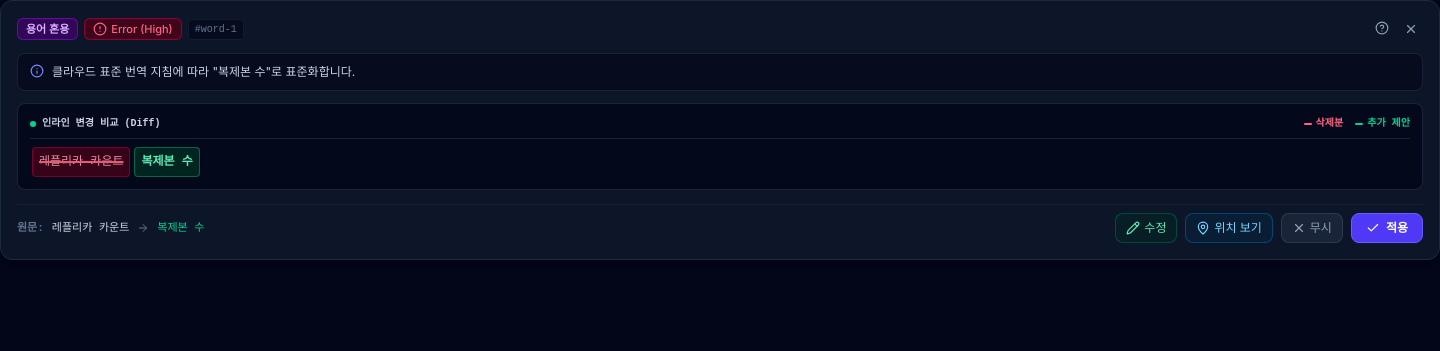
Scenario: QACardItem Component › edits the suggested segment and saves it through the QA store
Click the button with test id "qa-edit-suggestion-btn": [1146, 228] box [1115,213,1177,243]
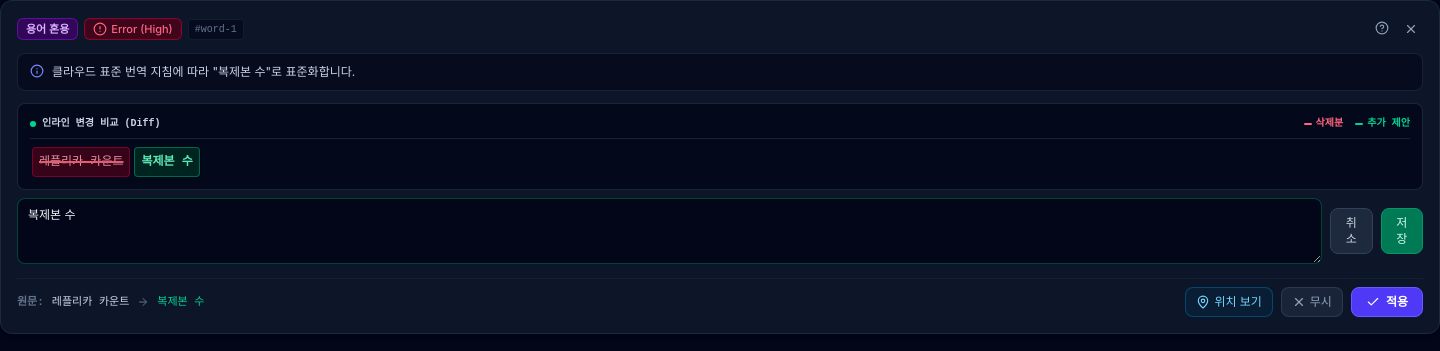
Result: the text box with test id "qa-suggestion-editor" holds "복제본 수"
Replace the text in the text box with test id "qa-suggestion-editor" with "Custom replacement": [670, 231] box [17,198,1322,264]
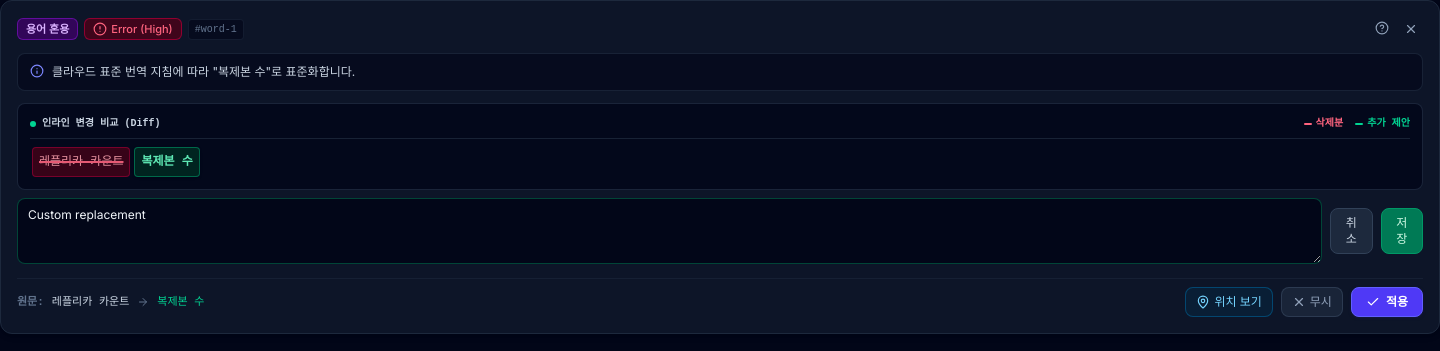
Click the button with test id "qa-suggestion-save-btn": [1402, 231] box [1380,208,1423,254]
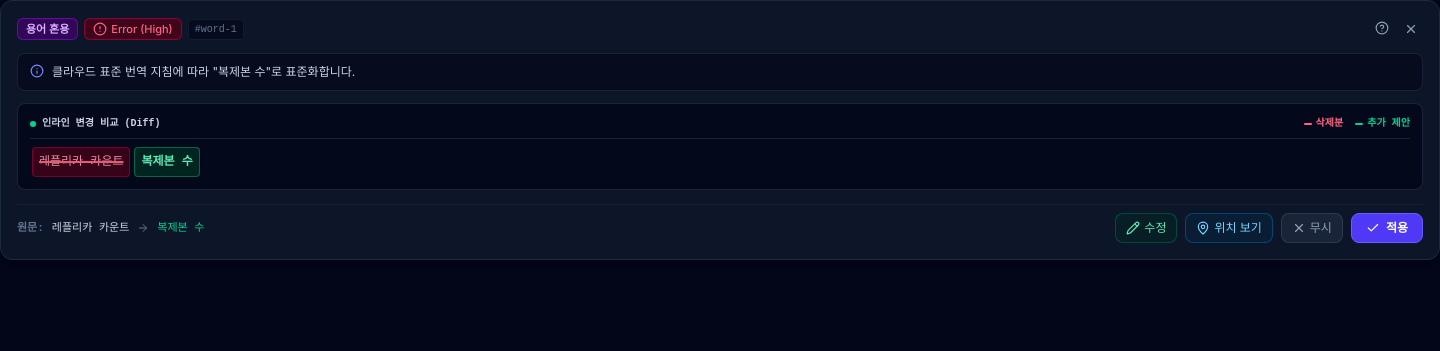
Result: the text box with test id "qa-suggestion-editor" is gone
